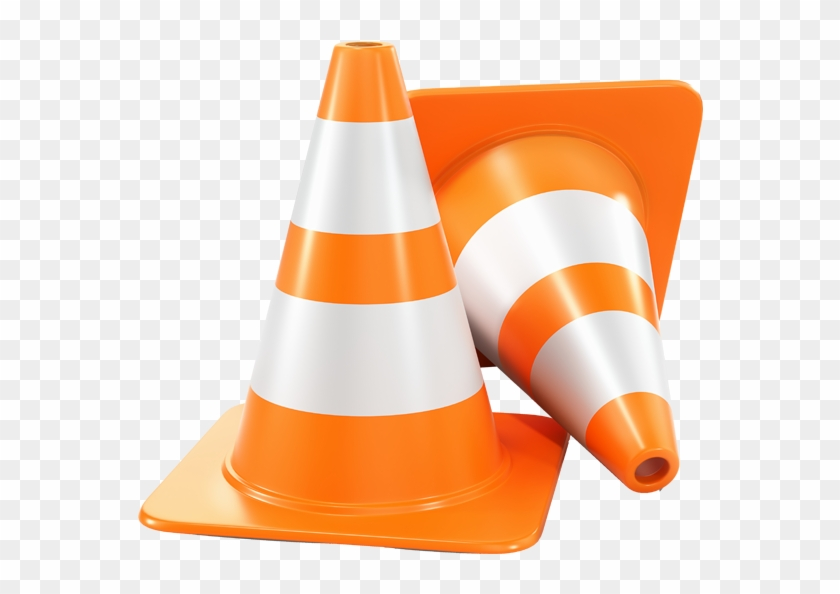cones: (106, 35, 584, 560), (391, 75, 737, 503)
